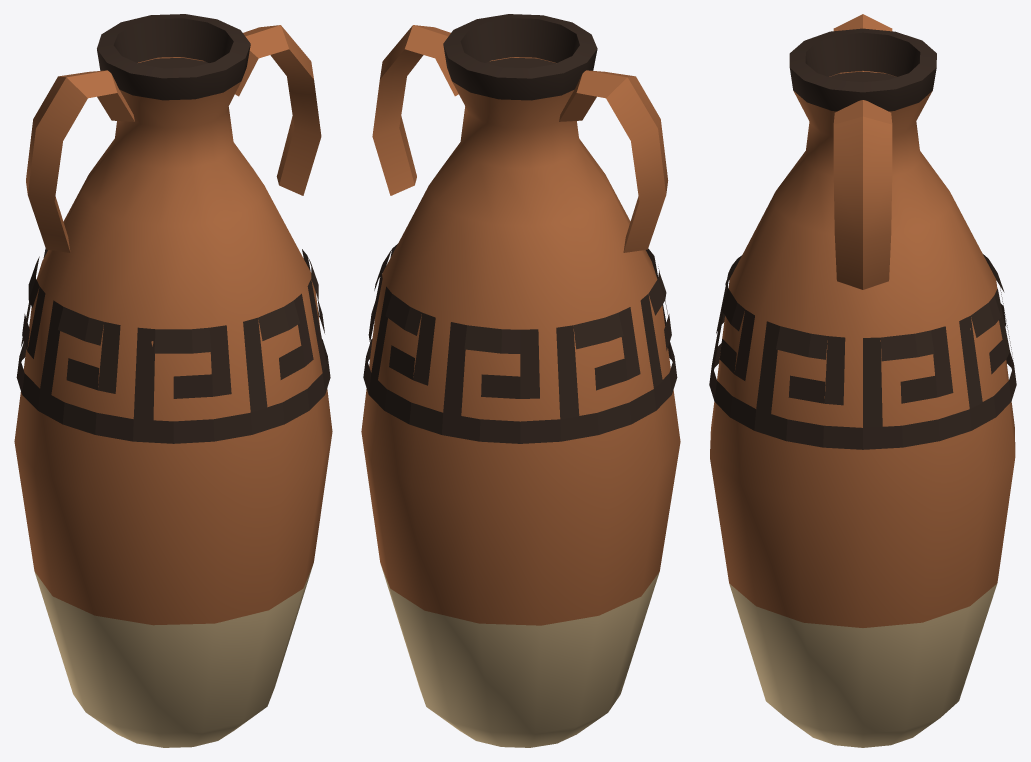
File: amphora-1.glb
The picture shows the model from 3 angles, left to right: view 1: azimuth 30°, elevation 25°; view 2: azimuth 150°, elevation 25°; view 3: azimuth 270°, elevation 25°; orthographic projection. The views are drawn at different scales.
Parts seen in each view (by area): view 1: amphora-1; view 2: amphora-1; view 3: amphora-1.
Part boxes in pixels (<box>): amphora-1: <box>14,14,332,747</box>; amphora-1: <box>361,14,680,747</box>; amphora-1: <box>709,14,1016,747</box>.
Size of the model in its own units: 0.5127 by 1.14 by 0.4777.
